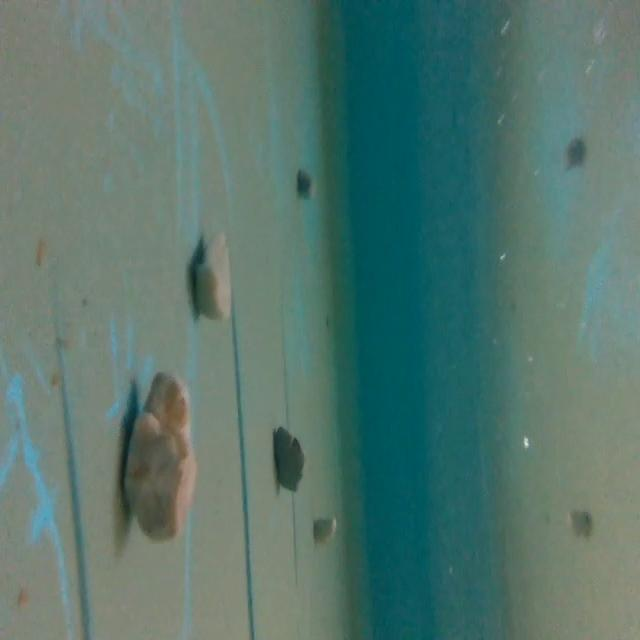rock: (119, 363, 201, 544), (189, 224, 236, 326), (271, 422, 308, 494), (308, 514, 339, 549), (294, 171, 317, 200)
